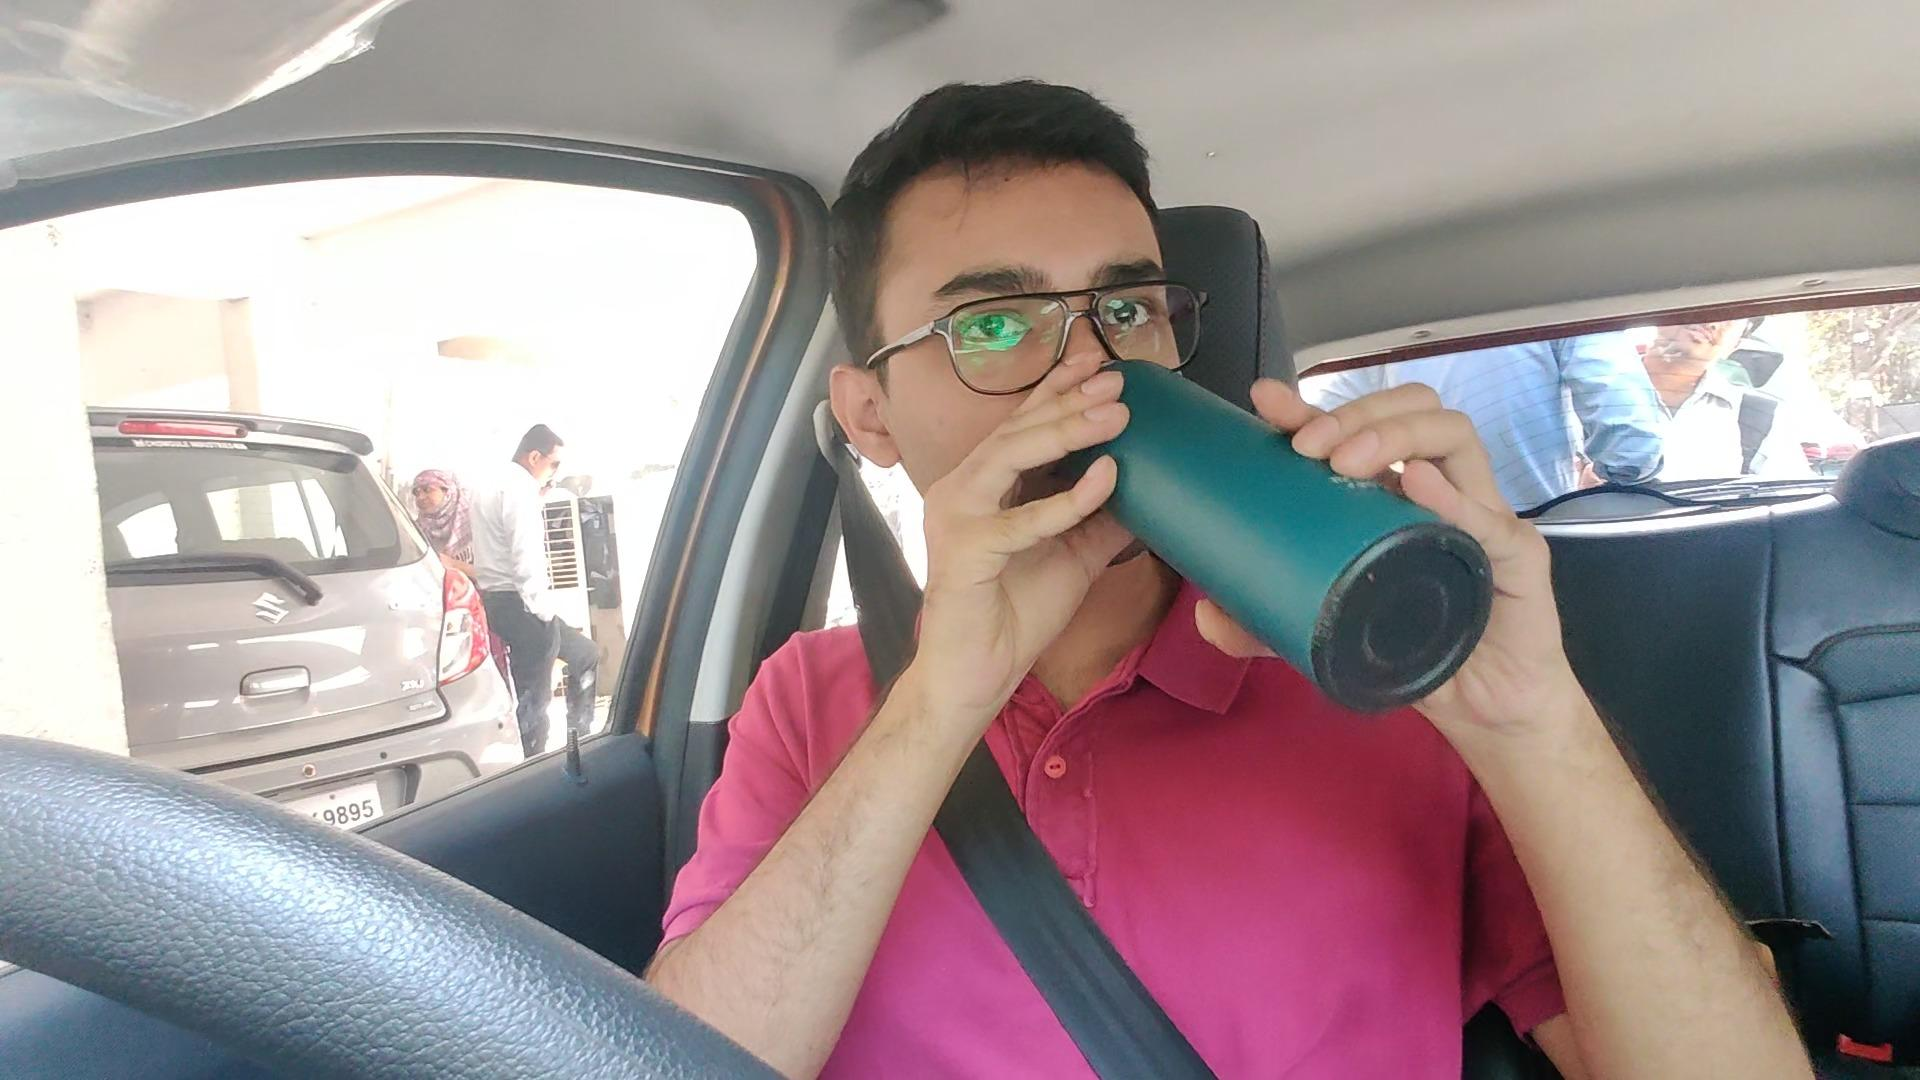Drinking: (833, 112, 1523, 713)
